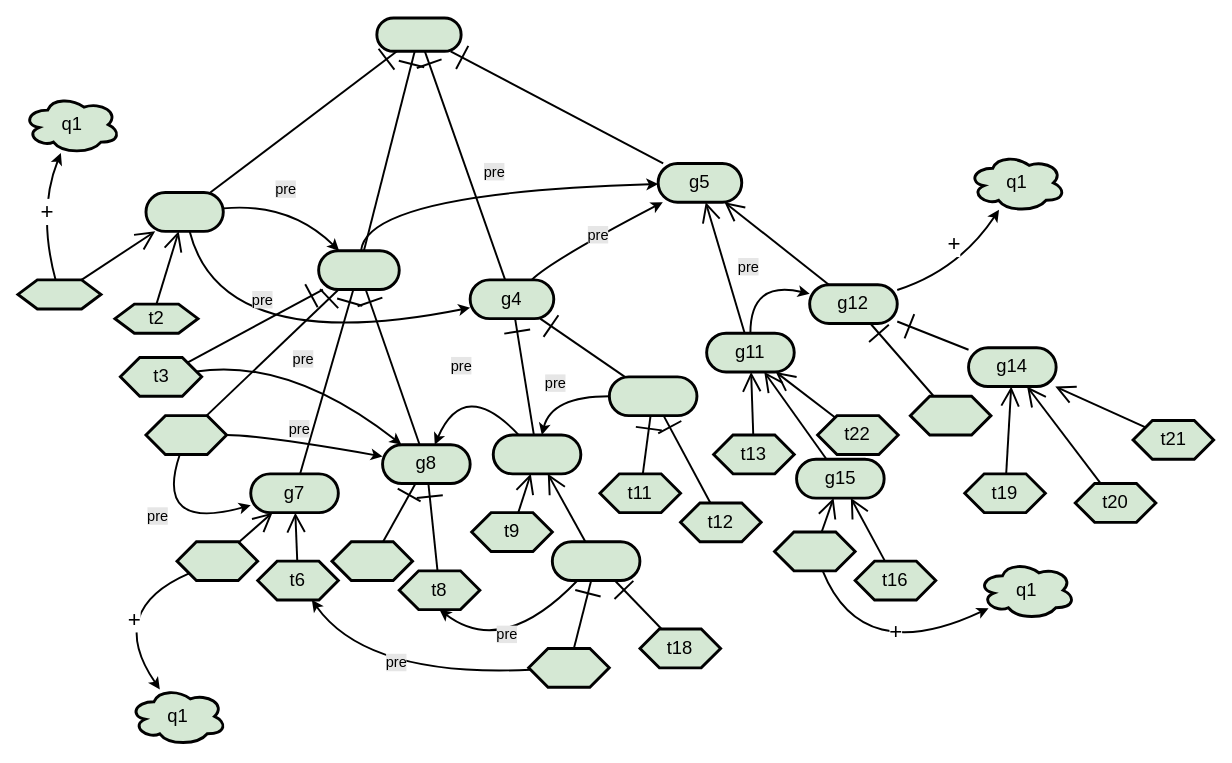
This 1232x763 diagram has some shape labels left out. Here are the shapes that lost their labels. From the top down, the centre of each, then its label:
the point at 418,34: g1
the point at 184,211: g2
the point at 358,270: g3
the point at 59,294: t1
the point at 652,396: g10
the point at 950,415: t15
the point at 186,434: t4
the point at 536,454: g9
the point at 217,561: t5
the point at 372,561: t7
the point at 595,561: g13
the point at 814,551: t14
the point at 568,667: t17
